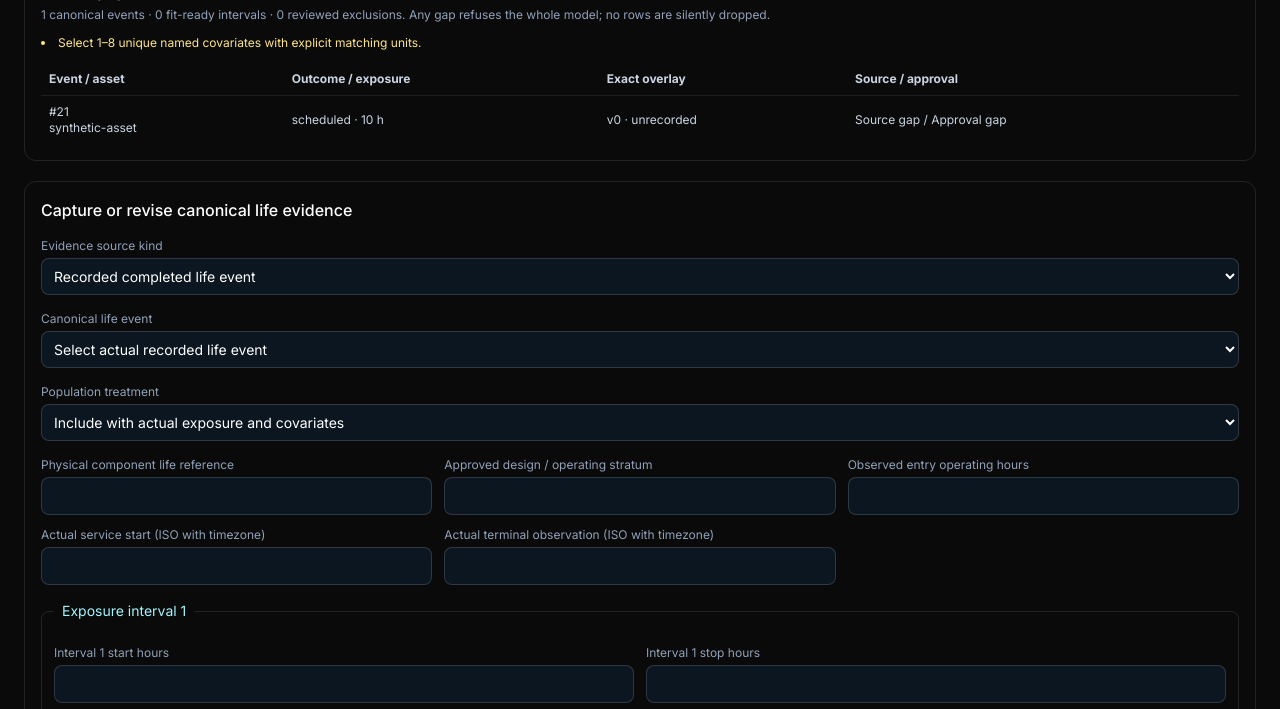
it: governed covariate survival workbench › shows missing approval honestly and never pre-fills operating measurements
The width and height of the screenshot is (1280, 709).
(page scrolled)
Select "#21 · scheduled · 10 h · v0" in the dropdown labelled "Canonical life event" at {"x": 640, "y": 350}, box x1=41 y1=331 x2=1239 y2=368
(page scrolled)
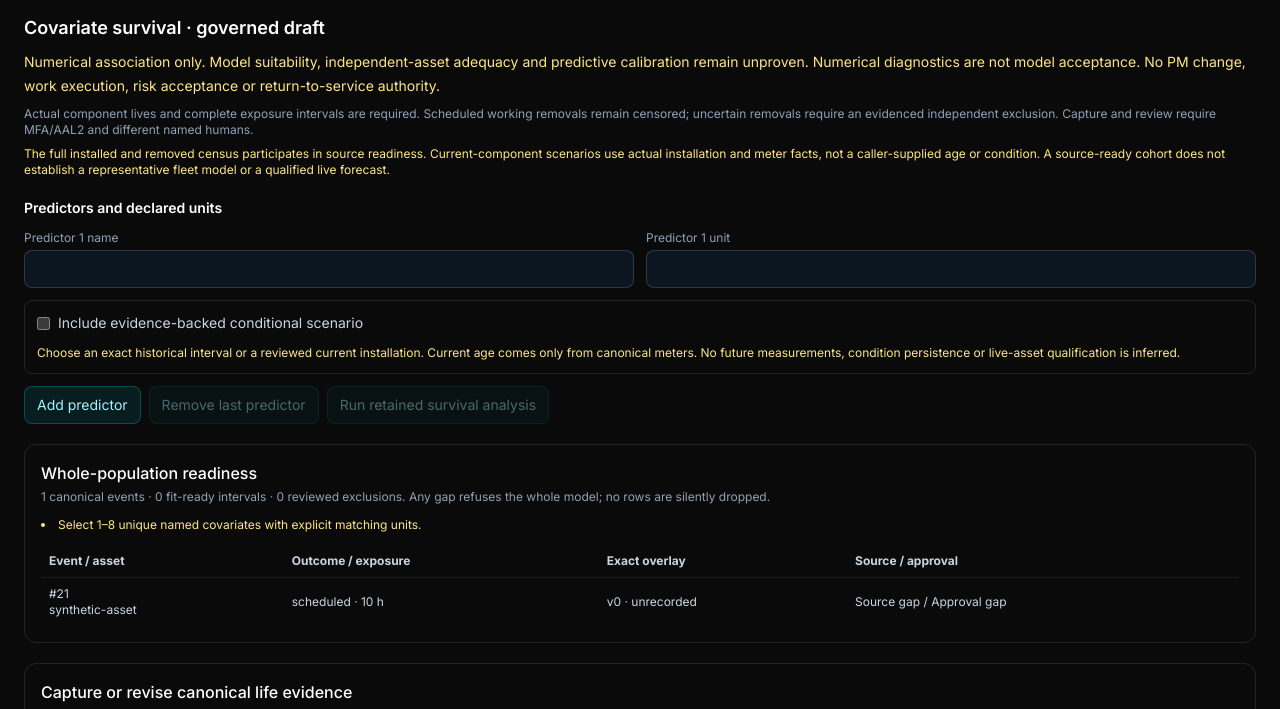
Type "synthetic_load" into the field labelled "Predictor 1 name" at {"x": 329, "y": 269}, box x1=24 y1=250 x2=634 y2=288
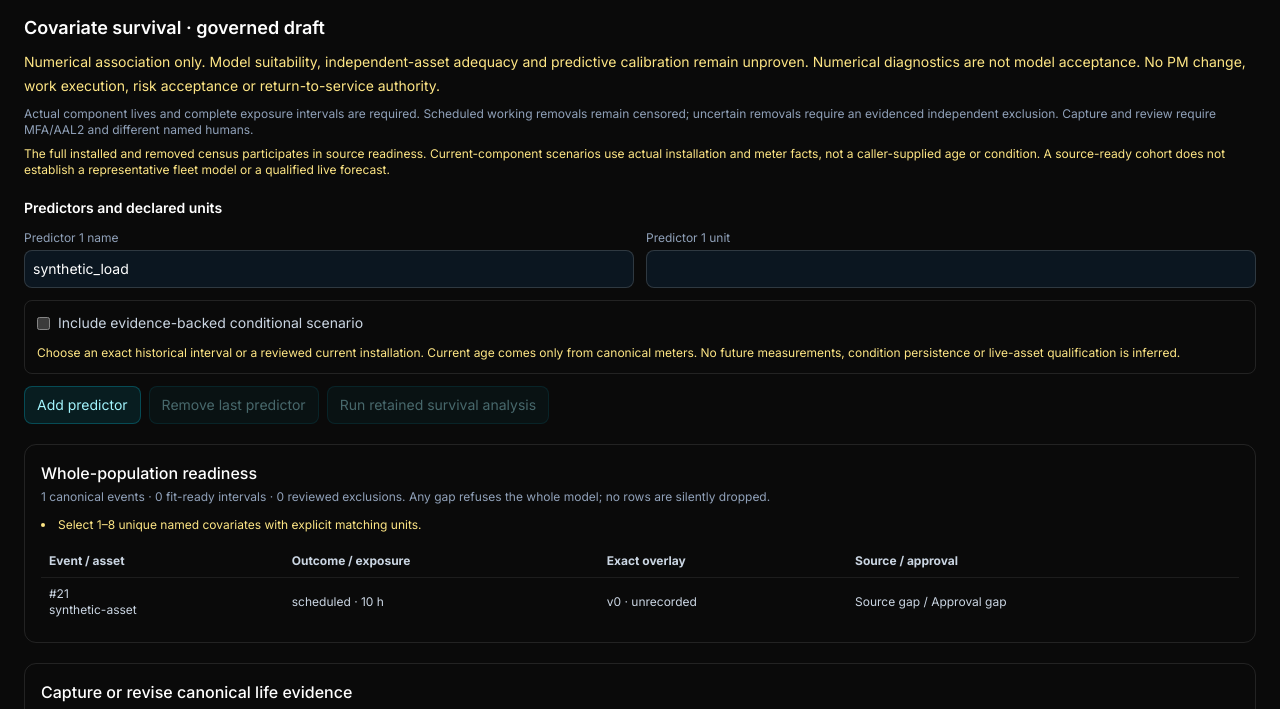
Type "ratio" into the field labelled "Predictor 1 unit" at {"x": 951, "y": 269}, box x1=646 y1=250 x2=1256 y2=288
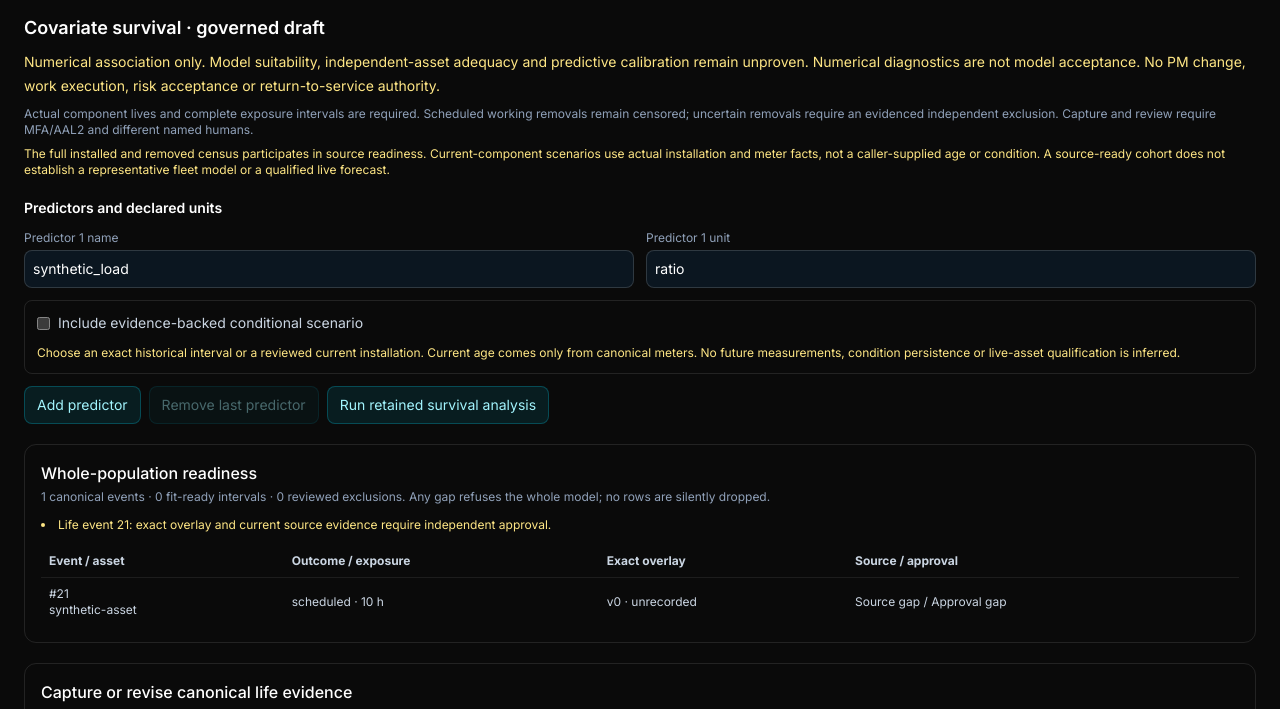
Expected: the text "independent-asset adequacy and predictive calibration remain unproven" is shown, x1=24 y1=53 x2=1246 y2=94
Expected: the list item "exact overlay and current source evidence require independent approval" is shown, x1=58 y1=517 x2=551 y2=532
